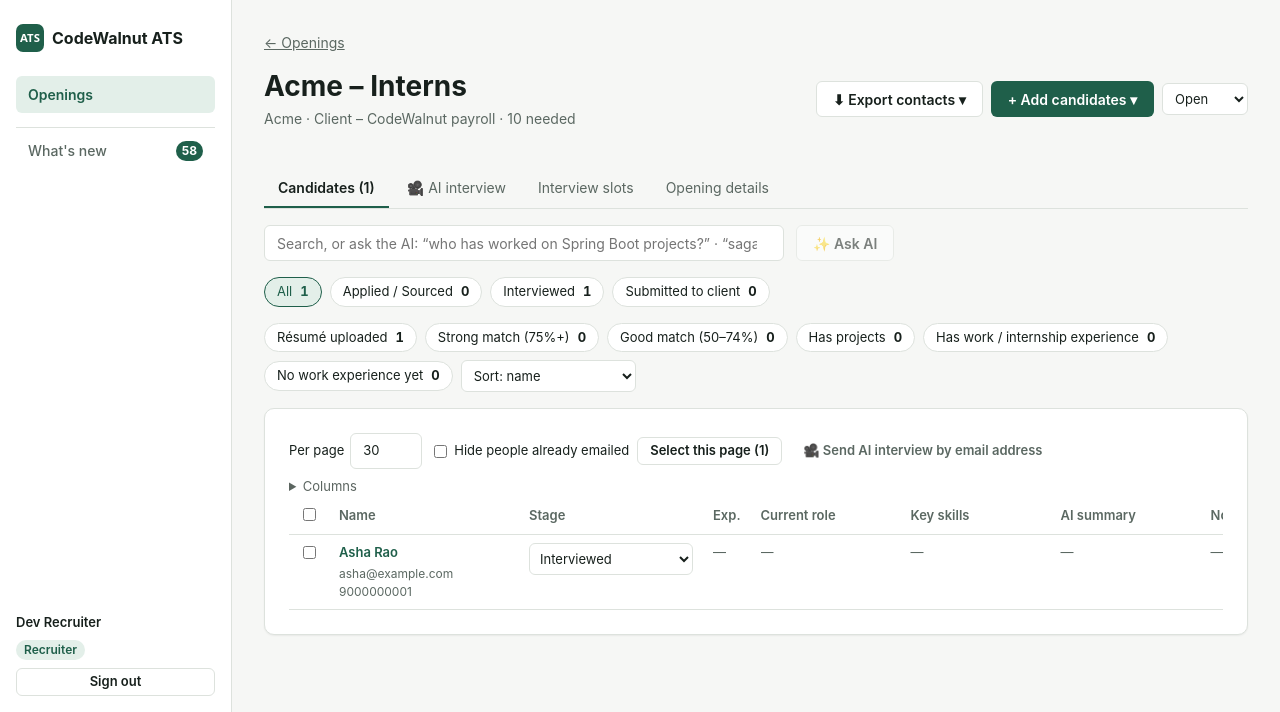
Scenario: JobDetailPage › turns a typed instruction into AI suggestions to review
Type "asha is shortlisted" into the search field named "Search candidates in this opening".
click(524, 243); type("asha is shortlisted")  # box top-left (264, 225), bottom-right (784, 261)
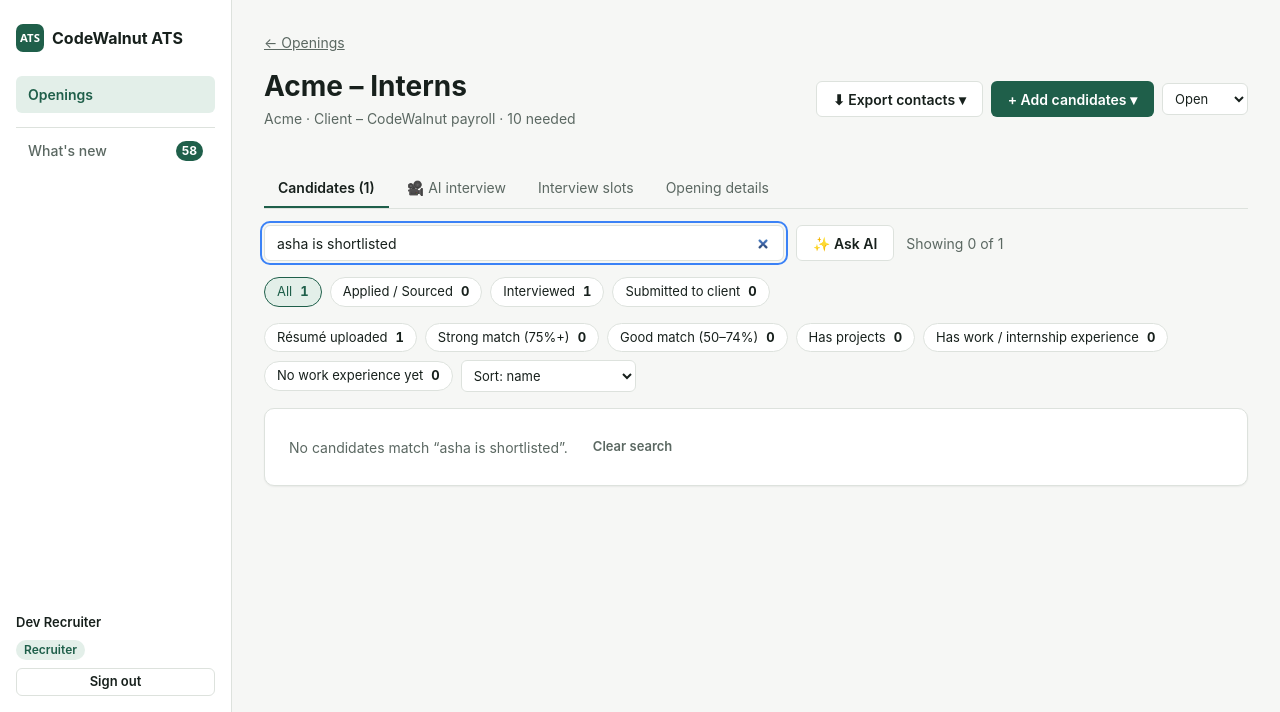
Click the button "✨ Ask AI".
click(845, 243)  # box top-left (796, 225), bottom-right (894, 261)
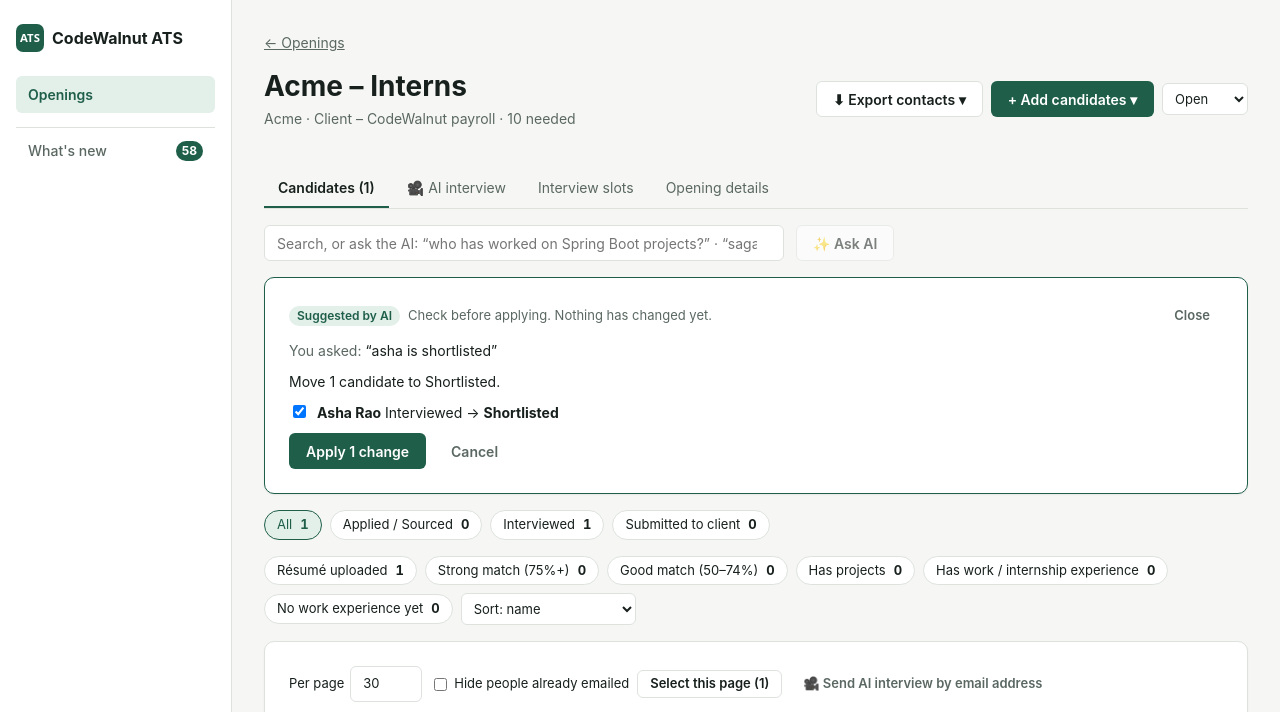
Result: the text "Asha Rao Interviewed → Shortlisted" is shown at top-left (317, 402), bottom-right (559, 423)
Result: the search field named "Search candidates in this opening" is empty at top-left (264, 225), bottom-right (784, 261)
